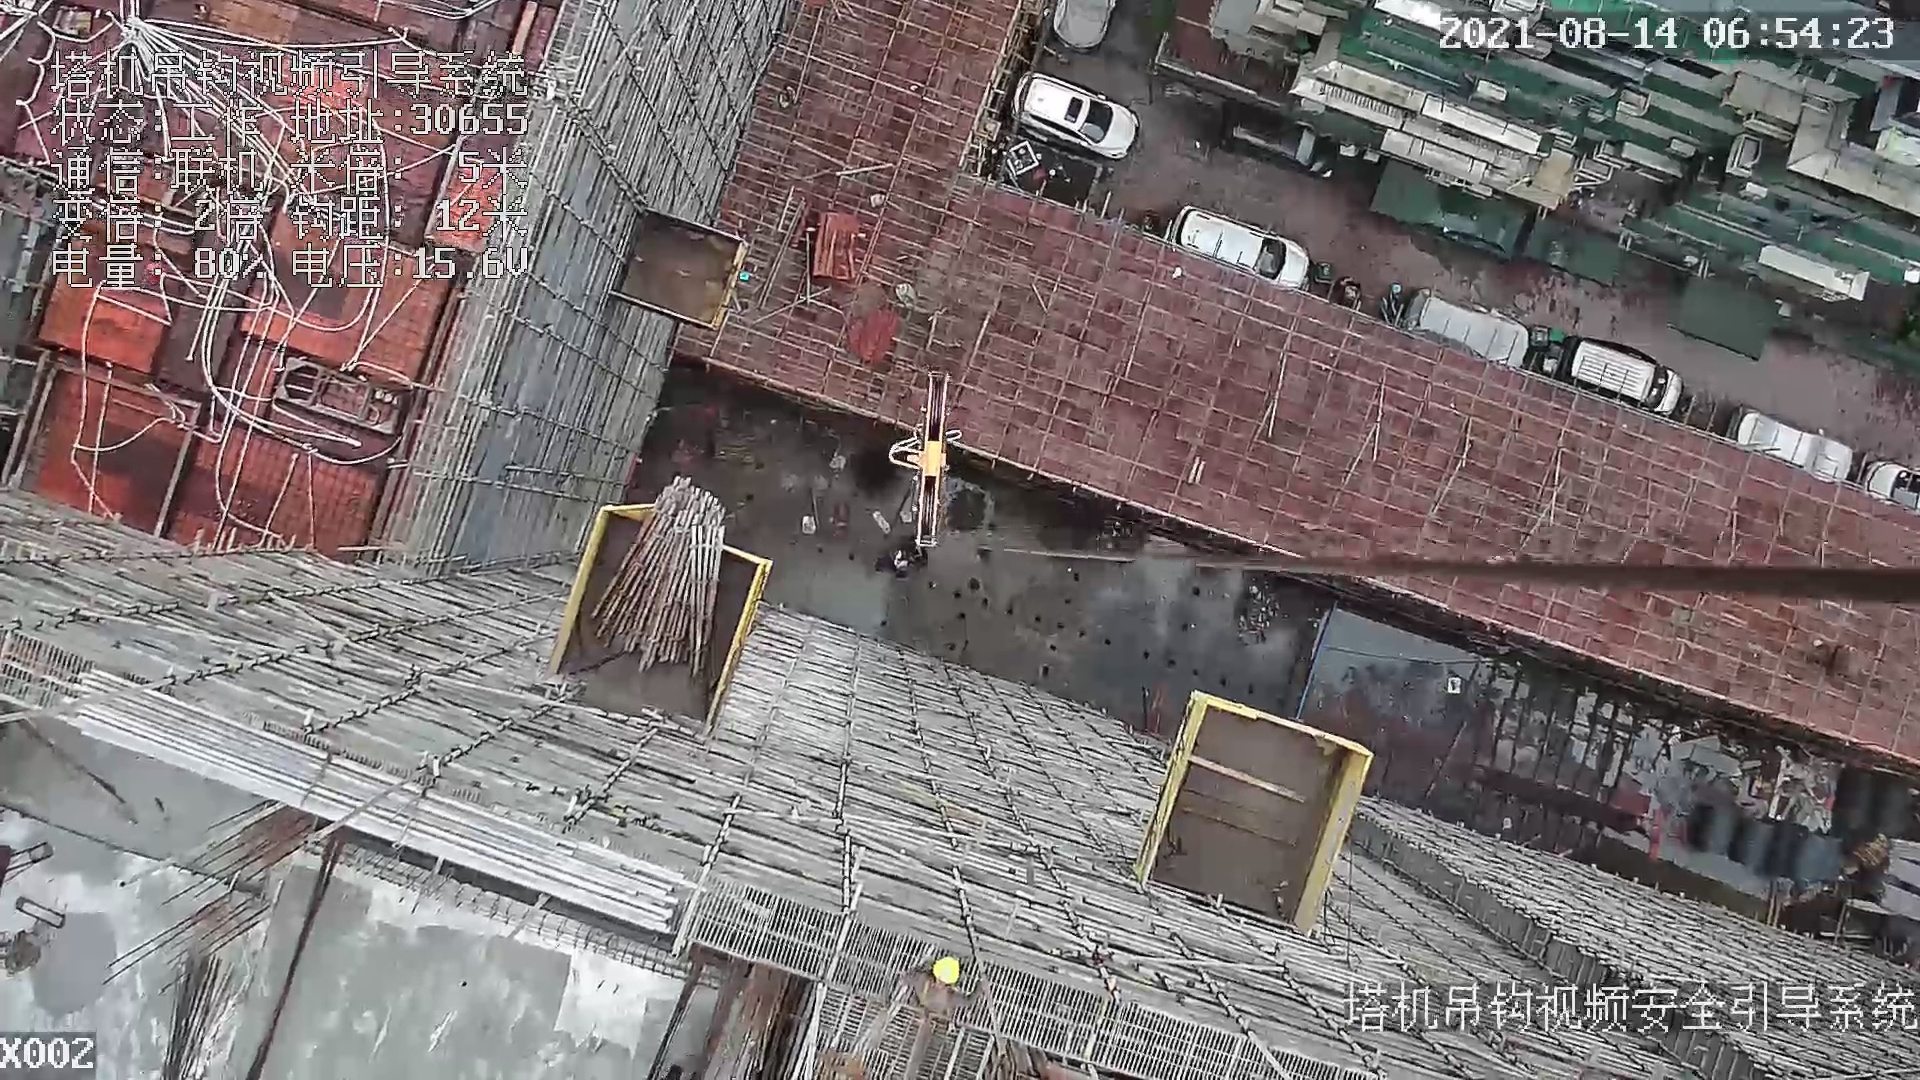helmet: (934, 958, 961, 983)
hook: (892, 364, 953, 555)
person: (906, 954, 990, 1027)
rebar: (62, 670, 677, 931)
scaffold: (590, 477, 726, 679)
